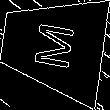M_W: (28, 19, 77, 73)
